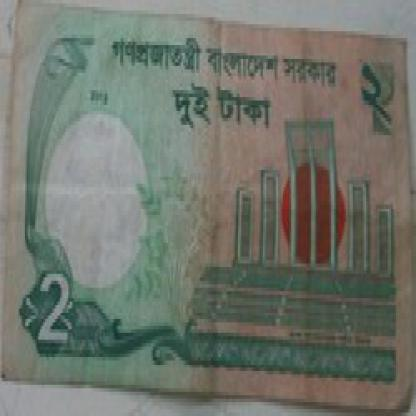two taka: (30, 257, 91, 364), (351, 48, 396, 138)
